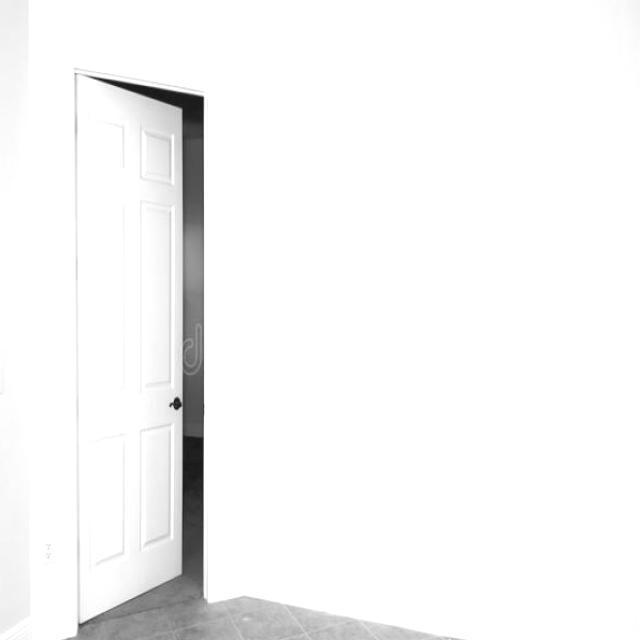door: (74, 72, 185, 624)
